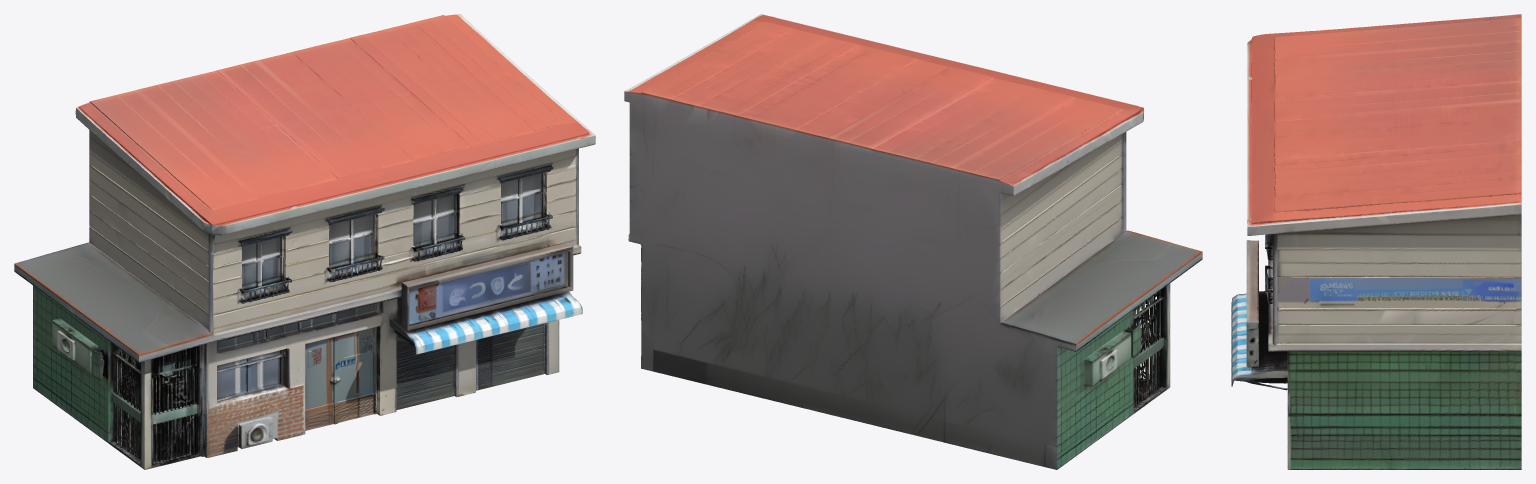
File: base_basic_pbr.fbx
The picture shows the model from 3 angles, left to right: view 1: azimuth 30°, elevation 25°; view 2: azimuth 150°, elevation 25°; view 3: azimuth 270°, elevation 25°; orthographic projection.
Parts seen in each view (by area): view 1: model; view 2: model; view 3: model.
Boxes of the visible parts, bbox=[...] form: model: bbox=[14, 14, 595, 469]; model: bbox=[624, 14, 1202, 469]; model: bbox=[1231, 14, 1521, 469].
Bounding box in the file's own units: 183 × 107 × 101.
Materials: 1 (1 with a texture image).
